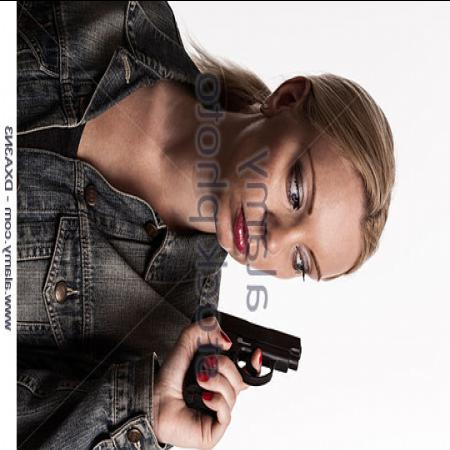Pistol: (182, 306, 304, 418)
